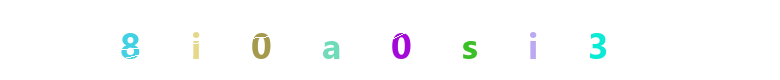0: (281, 0, 361, 80), (350, 0, 430, 80)
3: (460, 0, 540, 80)
8: (183, 0, 263, 80)
A: (322, 0, 402, 80)
I: (223, 0, 303, 80), (429, 0, 509, 80)
S: (361, 0, 441, 80)
